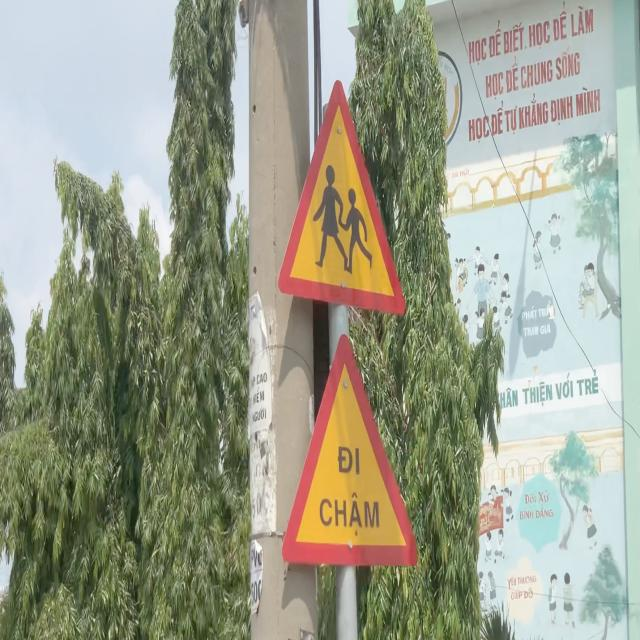Nguy hiem: (277, 330, 426, 576), (274, 69, 412, 323)
